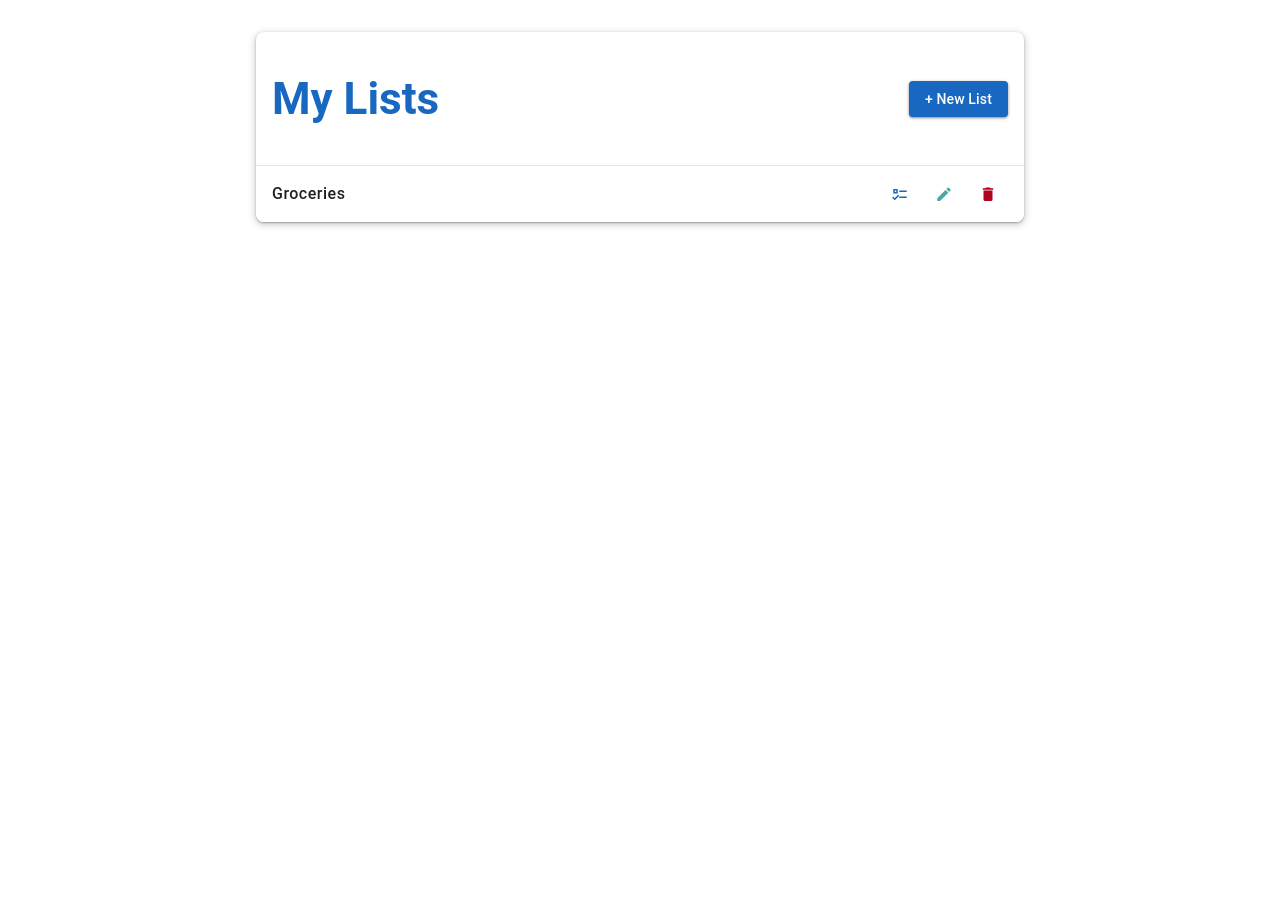
Test: Feature 2 — Todo List Management › US-2.4 — Rename and delete lists › User renames a list
The image size is (1280, 900).
Click the button named "Edit list": (944, 194) [924,174,964,214]
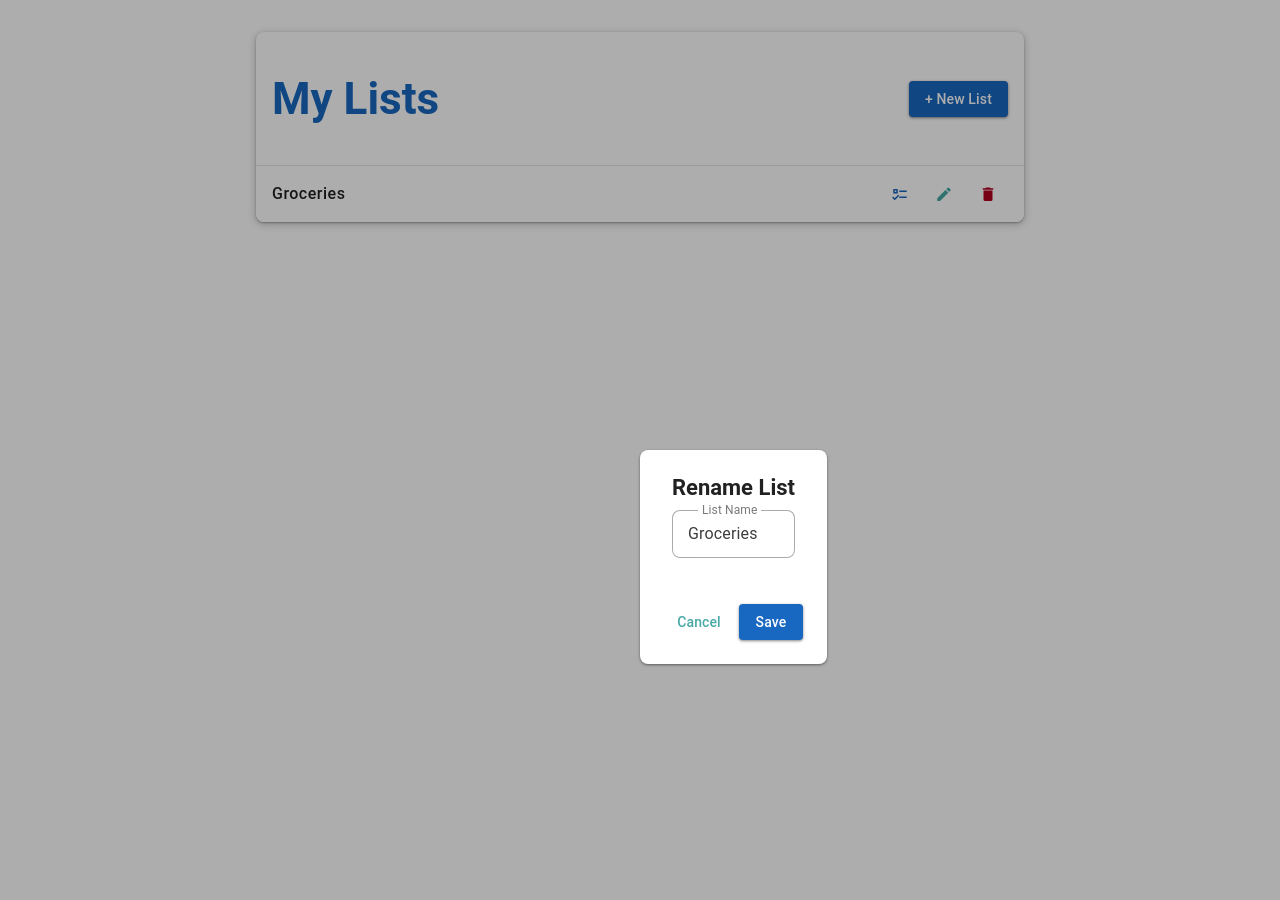
Now the dialog is shown
Now the field labelled "List Name" is shown
Replace the text in the field labelled "List Name" with "Shopping": (734, 534) [672,510,795,558]
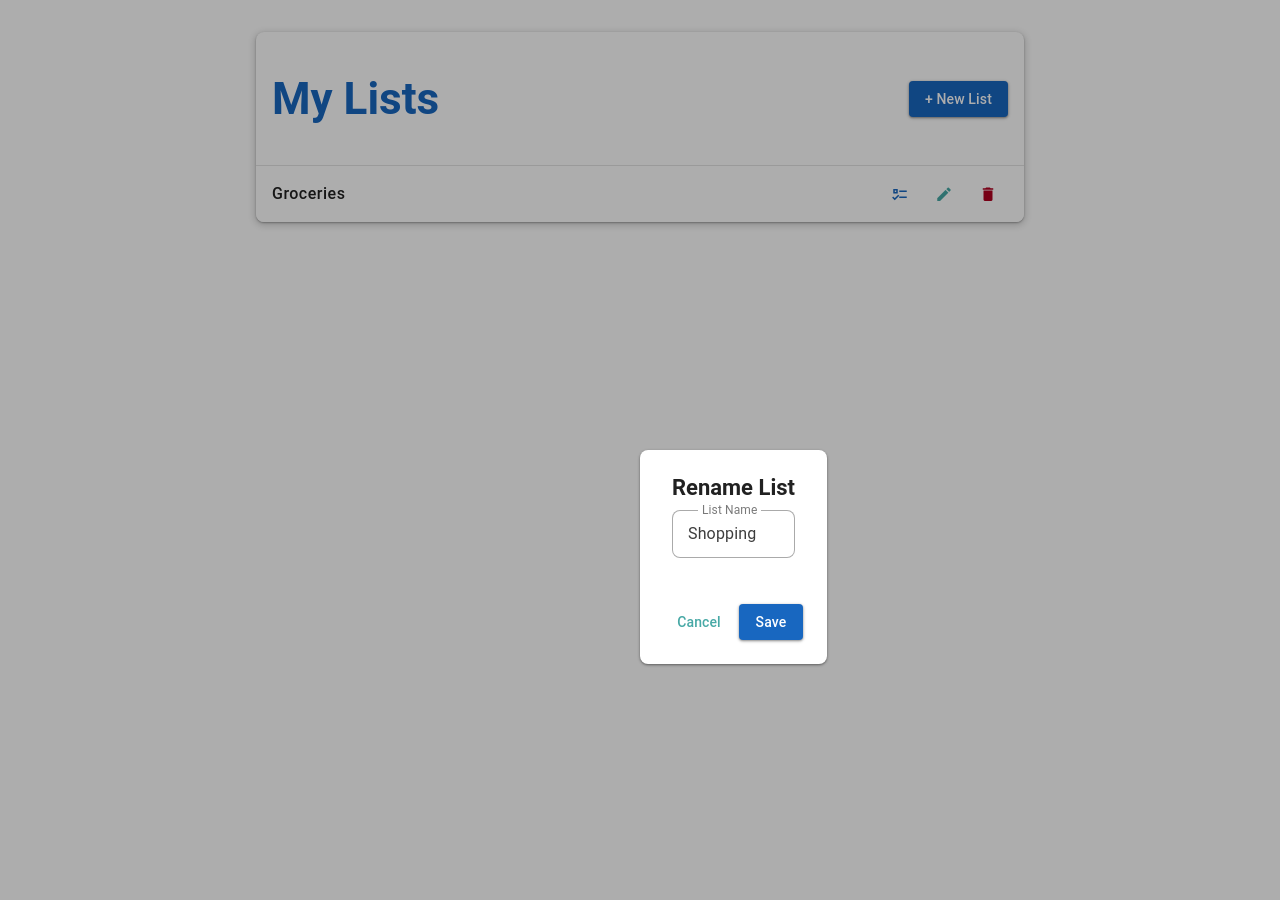
Now the button "Save" is shown
Click the button "Save": (771, 622) [739,604,803,640]
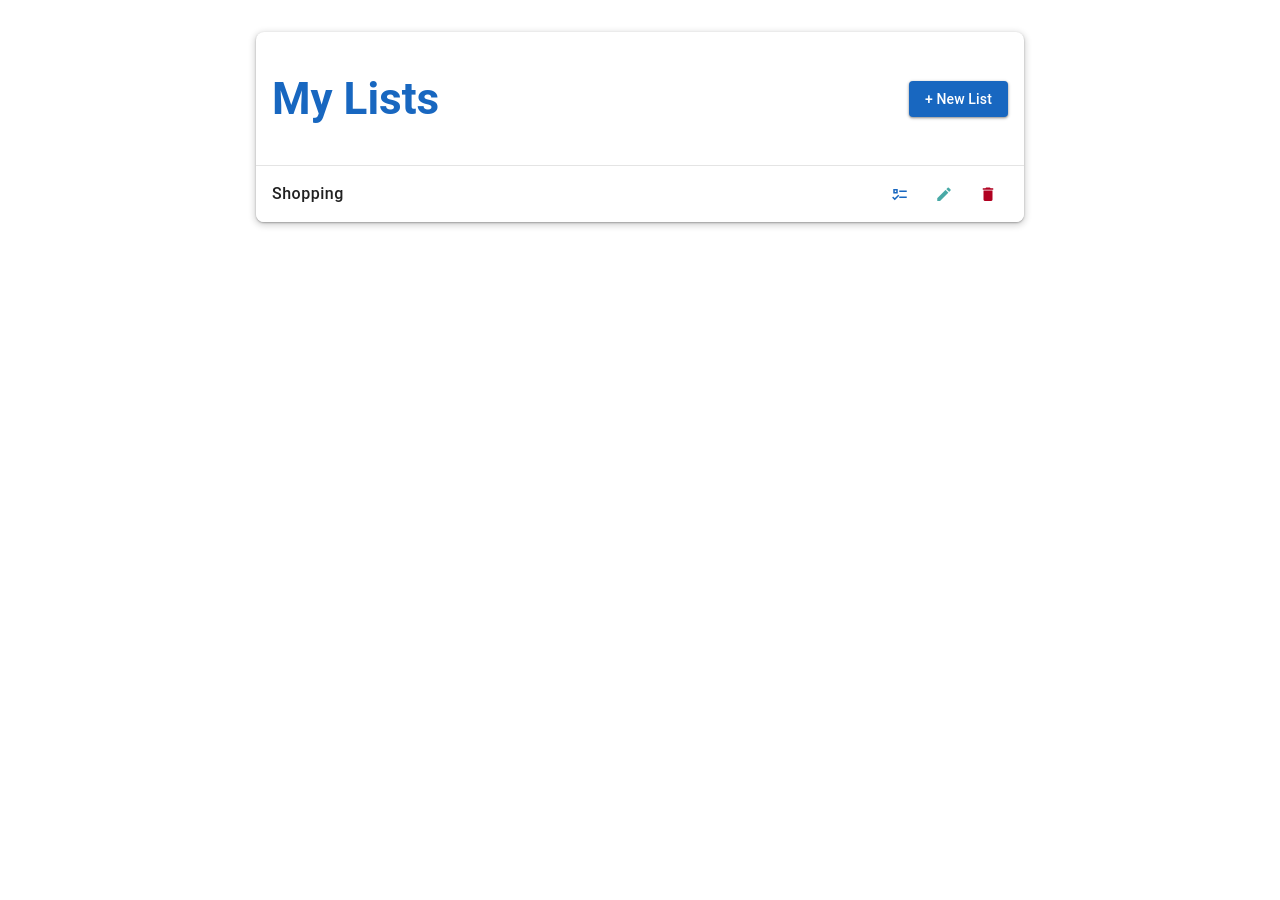
Now the text "Shopping" is shown, box [272,184,344,203]
